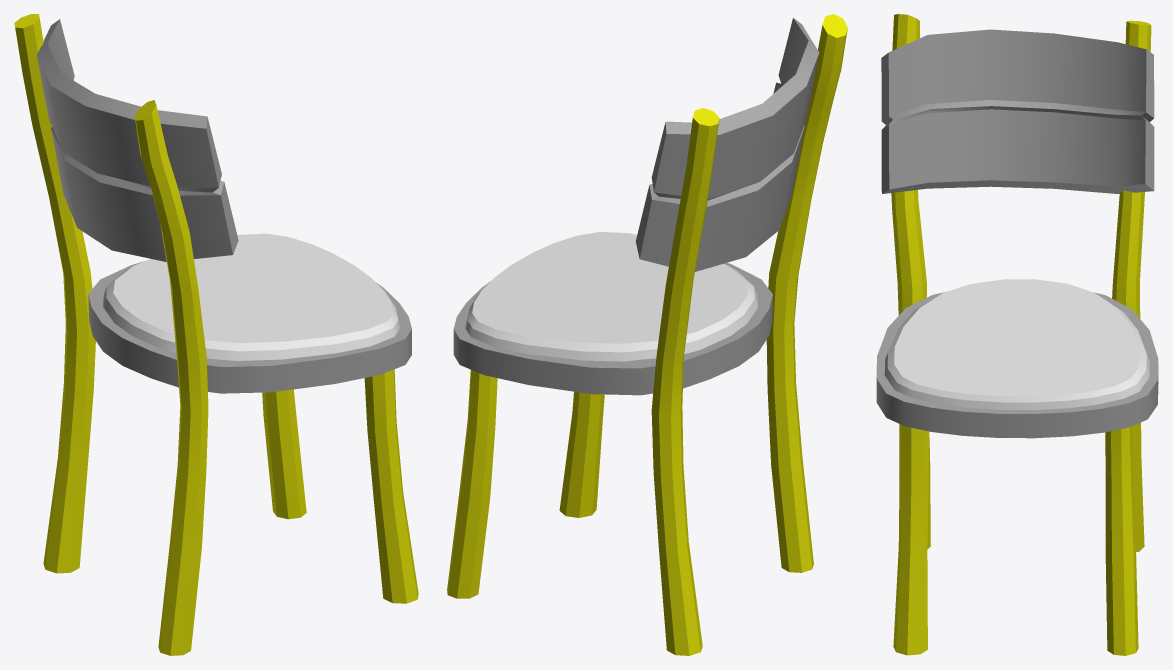
The model's file is BedRoom_Chair.fbx.
3 renders of one model, left to right at view 1: azimuth 30°, elevation 25°; view 2: azimuth 150°, elevation 25°; view 3: azimuth 270°, elevation 25°, orthographic. The views are drawn at different scales.
Parts seen in each view (by area): view 1: BedRoom_Chair; view 2: BedRoom_Chair; view 3: BedRoom_Chair.
Part boxes in pixels (x1,y1,x2,y2): BedRoom_Chair: (14, 14, 418, 655); BedRoom_Chair: (447, 14, 847, 655); BedRoom_Chair: (876, 14, 1158, 655).
Size of the model in its own units: 71.47 by 125 by 61.55.
